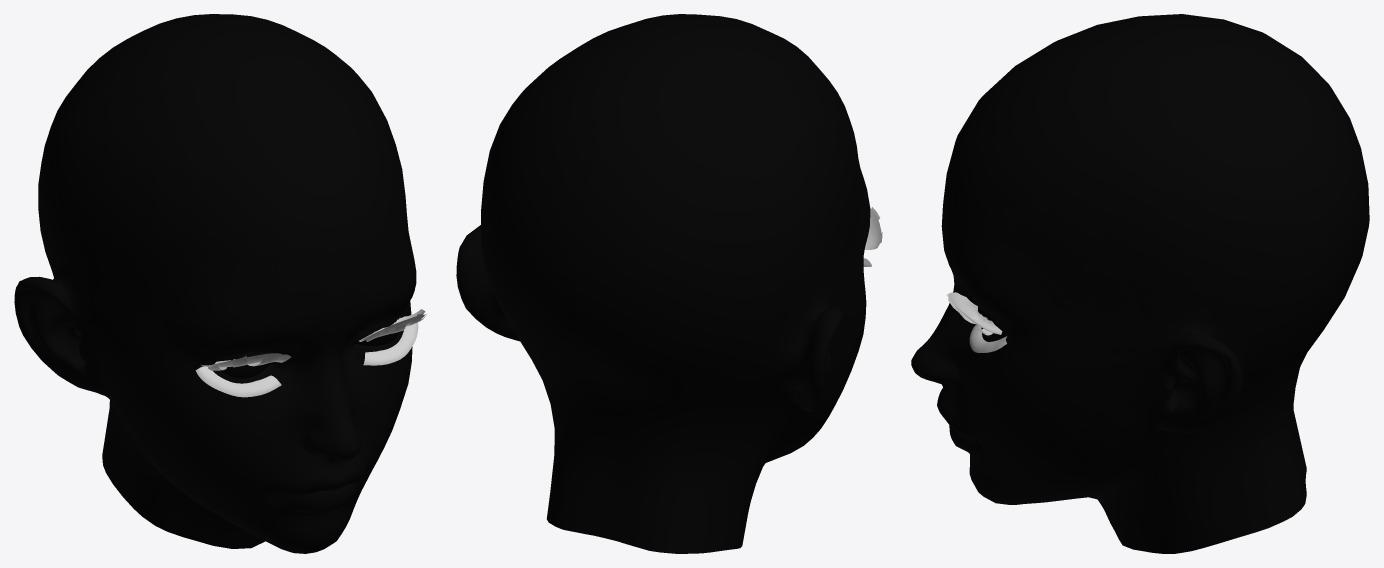
File: SK_MECHANICGIRL_HEAD.001.fbx
The picture shows the model from 3 angles, left to right: view 1: azimuth 30°, elevation 25°; view 2: azimuth 150°, elevation 25°; view 3: azimuth 270°, elevation 25°; orthographic projection. The views are drawn at different scales.
Parts seen in each view (by area): view 1: SK_MECHANICGIRL_HEAD.001; view 2: SK_MECHANICGIRL_HEAD.001; view 3: SK_MECHANICGIRL_HEAD.001.
Boxes of the visible parts, left/top/right/bottom form: SK_MECHANICGIRL_HEAD.001: left=14, top=14, right=426, bottom=553; SK_MECHANICGIRL_HEAD.001: left=456, top=14, right=882, bottom=553; SK_MECHANICGIRL_HEAD.001: left=911, top=14, right=1369, bottom=553.
Size of the model in its own units: 18.04 by 23.68 by 19.38.
